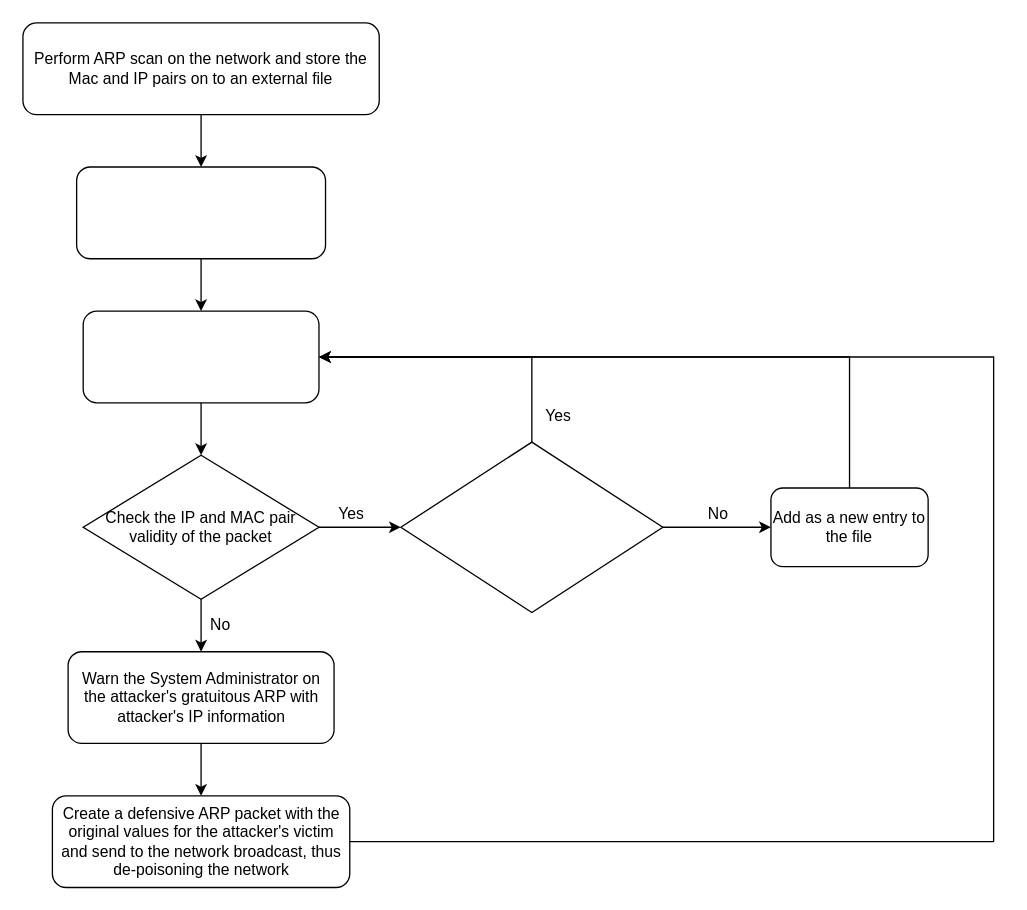
Image size: 1027x910. Some labels were removed from this diagram. The shapes that lost their labels are listed below. From the top down, each one's centre as x and y in pixels, then its label:
(x=200, y=212): Start scanning the network for ARP REPLY traffic
(x=200, y=356): Analyze next incoming packet
(x=531, y=526): Is the Mac and IP pair already present in the file
